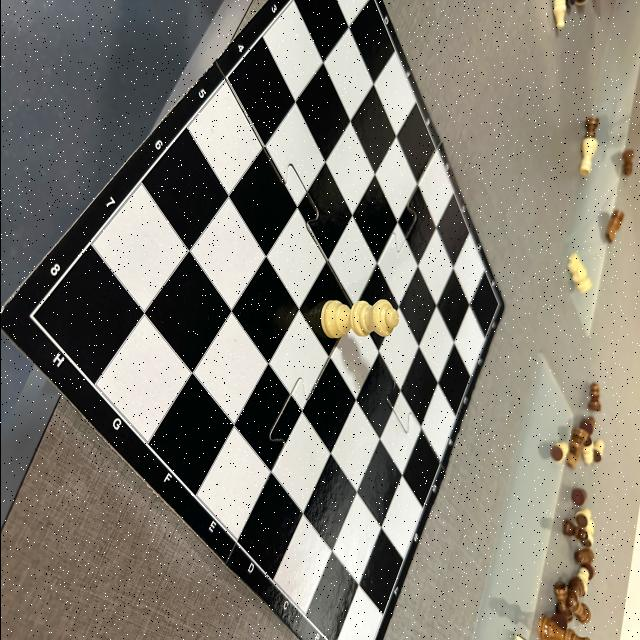Black-Bishop: (566, 578, 582, 608)
Black-Knight: (566, 428, 588, 470), (604, 210, 624, 243)
Black-Pawn: (561, 520, 587, 542), (586, 384, 600, 412), (572, 604, 590, 624), (621, 150, 633, 178), (574, 548, 594, 564), (578, 417, 594, 435), (584, 118, 598, 138), (571, 488, 587, 504)
Black-Queen: (537, 614, 591, 640)
Black-Rook: (552, 582, 572, 622)
White-Bishop: (552, 0, 566, 29)
White-Knight: (566, 253, 590, 293)
White-Pawn: (576, 566, 589, 596), (580, 520, 594, 546), (550, 442, 568, 462), (574, 508, 590, 526), (592, 440, 604, 462), (582, 439, 592, 464)
White-Queen: (320, 298, 398, 338)
White-Rook: (578, 138, 596, 176)
